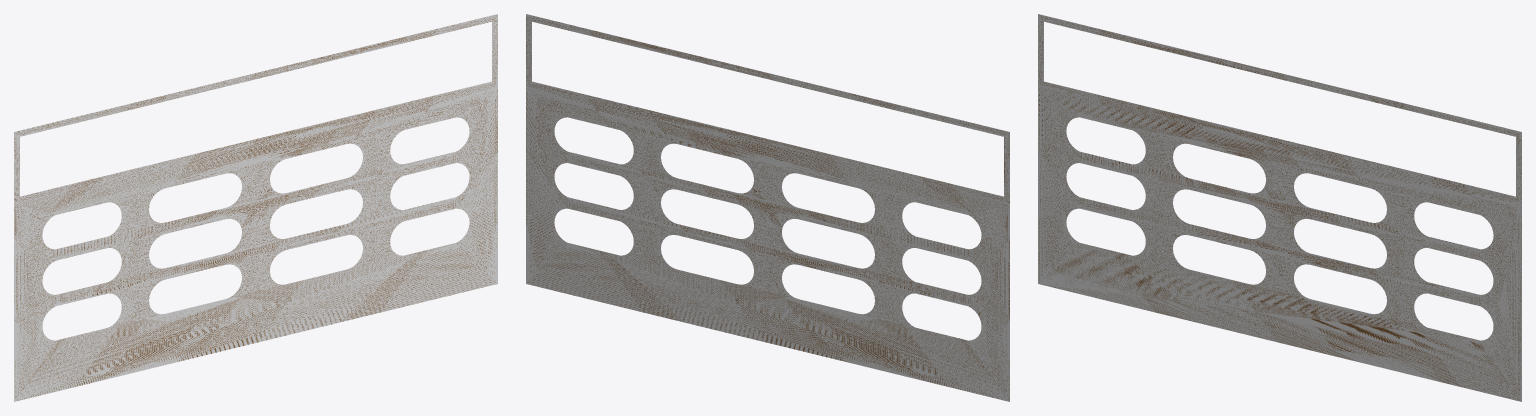
The model's file is original-14.obj.
3 renders of one model, left to right at view 1: azimuth 30°, elevation 25°; view 2: azimuth 150°, elevation 25°; view 3: azimuth 330°, elevation 25°, orthographic.
Parts seen in each view (by area): view 1: mesh1/mesh1-geometry/material_5/component_1#mesh1-geometry; view 2: mesh1/mesh1-geometry/material_5/component_1#mesh1-geometry; view 3: mesh1/mesh1-geometry/material_5/component_1#mesh1-geometry.
Boxes of the visible parts, x1,y1,x2,y2 form: mesh1/mesh1-geometry/material_5/component_1#mesh1-geometry: [14, 14, 497, 401]; mesh1/mesh1-geometry/material_5/component_1#mesh1-geometry: [526, 14, 1009, 401]; mesh1/mesh1-geometry/material_5/component_1#mesh1-geometry: [1038, 14, 1521, 401].
Bounding box in the file's own units: 0.1524 × 0.0813 × 0.
